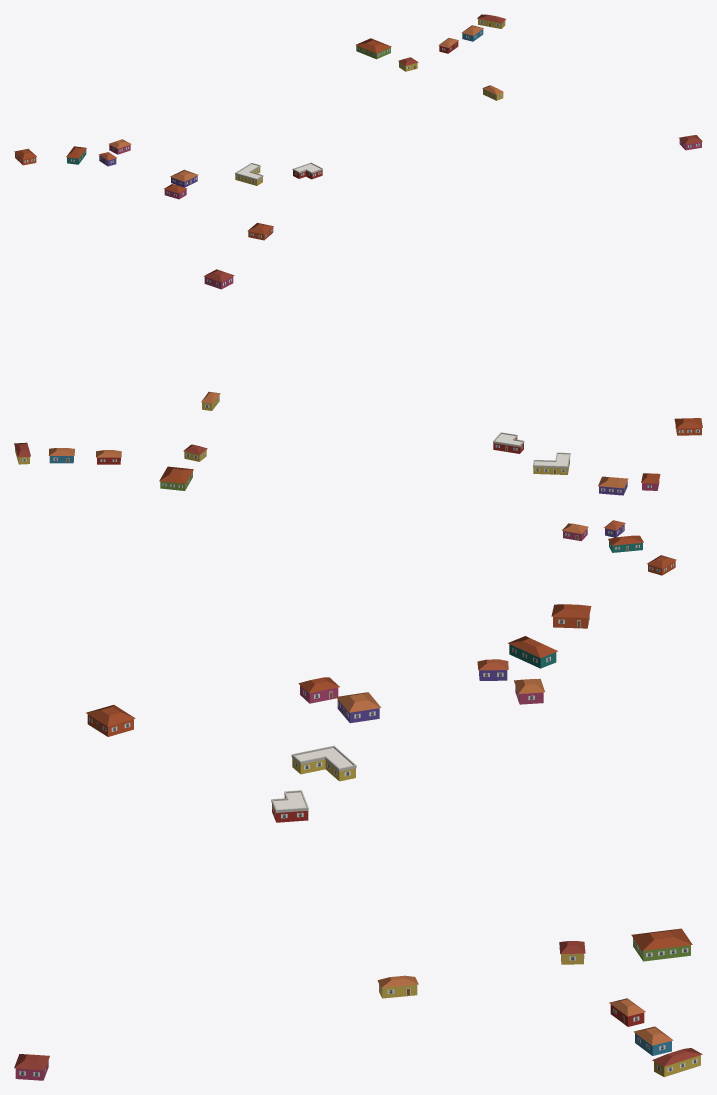
The model's file is msb_oranjestad_m10_7.glb.
3 views of the same model, one above another, from view 1: azimuth 30°, elevation 25°; view 2: azimuth 150°, elevation 25°; view 3: azimuth 270°, elevation 25° (orthographic). The views are drawn at different scales.
Parts seen in each view (by area): view 1: msb_oranjestad_m10_7_lod0; view 2: msb_oranjestad_m10_7_lod0; view 3: msb_oranjestad_m10_7_lod0.
Boxes of the visible parts, x1=… form: msb_oranjestad_m10_7_lod0: x1=14, y1=14, x2=702, y2=240; msb_oranjestad_m10_7_lod0: x1=14, y1=269, x2=702, y2=575; msb_oranjestad_m10_7_lod0: x1=14, y1=604, x2=702, y2=1080.
Size of what is drawn, in the model's own units: 310 by 9.31 by 195.
Materials: 3 (1 with a texture image).
